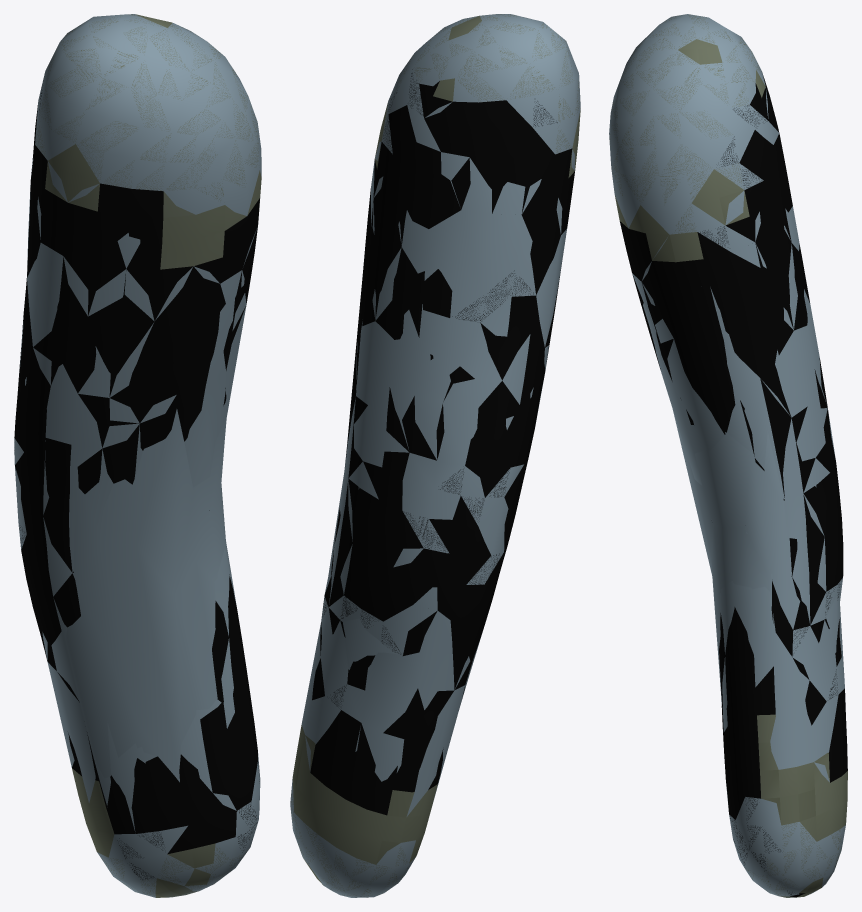
3 views of the same model, side by side, from view 1: azimuth 30°, elevation 25°; view 2: azimuth 150°, elevation 25°; view 3: azimuth 270°, elevation 25° (orthographic). The views are drawn at different scales.
Parts seen in each view (by area): view 1: CC R13 high, CC R13, CC R13 low; view 2: CC R13, CC R13 high, CC R13 low; view 3: CC R13, CC R13 high, CC R13 low.
Boxes of the visible parts, bbox=[...] form: CC R13 high: bbox=[14, 14, 261, 897]; CC R13: bbox=[14, 14, 261, 897]; CC R13 low: bbox=[66, 409, 226, 782]; CC R13: bbox=[290, 14, 580, 897]; CC R13 high: bbox=[291, 14, 580, 897]; CC R13 low: bbox=[328, 454, 462, 701]; CC R13: bbox=[609, 14, 845, 896]; CC R13 high: bbox=[609, 14, 847, 897]; CC R13 low: bbox=[672, 409, 839, 698].
Size of the model in its own units: 1.64 by 5.79 by 1.53.
